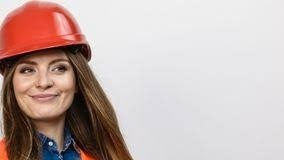helmet: (1, 1, 94, 65)
person with partial safety: (1, 1, 112, 160)
